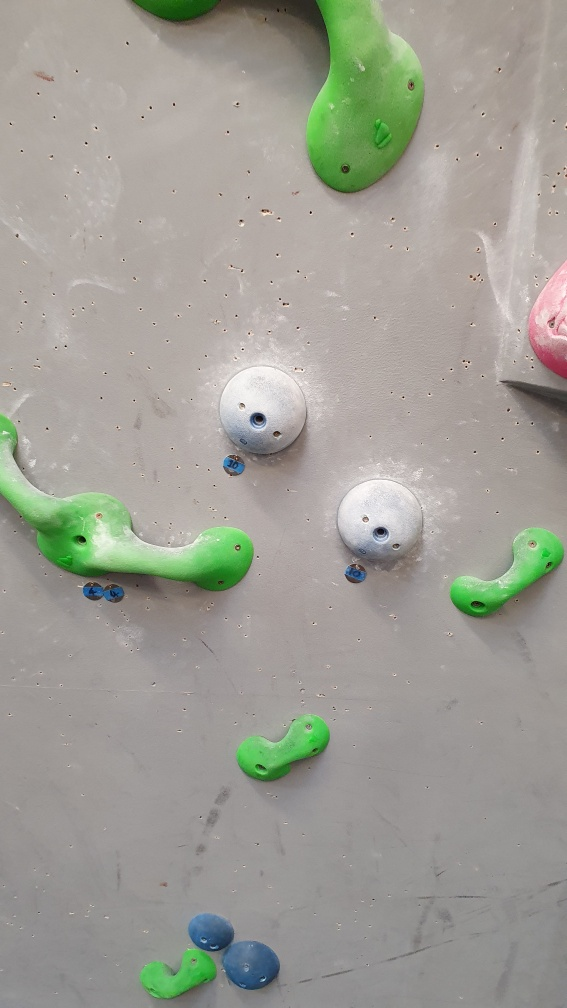Hand Start: (220, 449, 245, 479), (81, 577, 106, 605), (342, 560, 367, 586), (103, 581, 130, 605)
Sloper: (333, 473, 429, 572), (219, 367, 310, 465), (219, 936, 285, 990), (185, 910, 237, 955)
